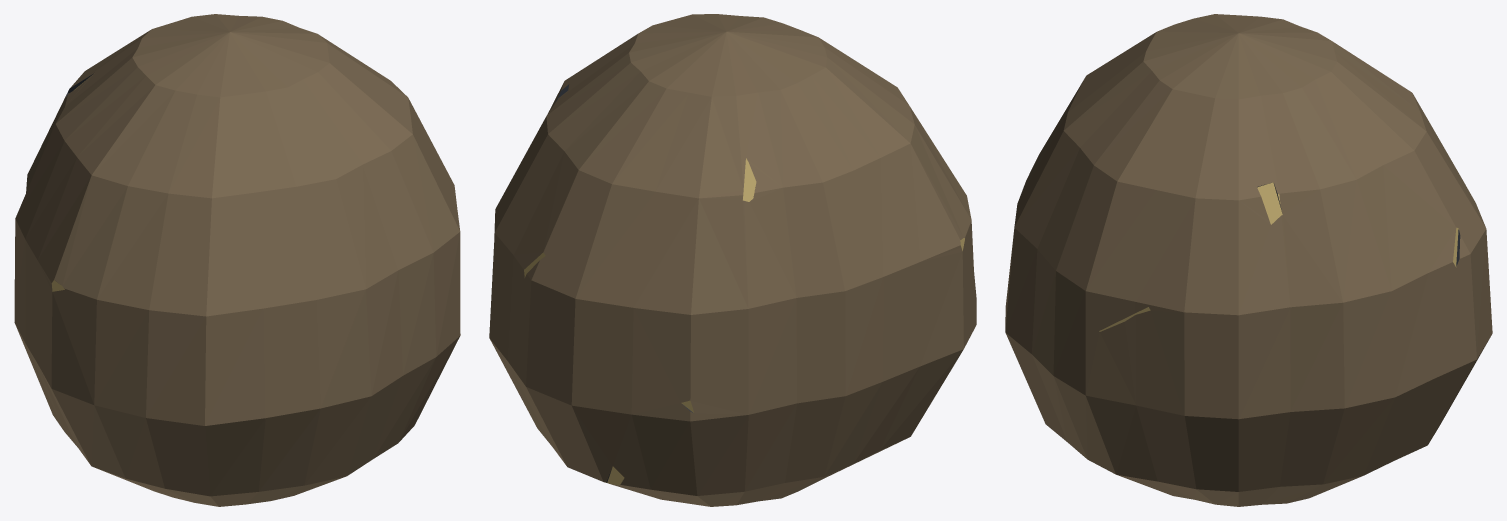
Rendered from dung_ball_medium.glb.
3 views of the same model, side by side, from view 1: azimuth 30°, elevation 25°; view 2: azimuth 150°, elevation 25°; view 3: azimuth 270°, elevation 25° (orthographic).
Parts seen in each view (by area): view 1: dung_ball_medium; view 2: dung_ball_medium; view 3: dung_ball_medium.
Part boxes in pixels (box(x1,y1,x2,y2)): dung_ball_medium: box(14, 14, 460, 506); dung_ball_medium: box(489, 14, 976, 506); dung_ball_medium: box(1005, 14, 1492, 506).
Bounding box in the file's own units: 0.2442 × 0.2435 × 0.25.
